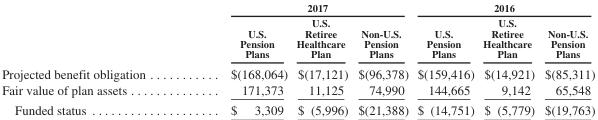table: (1, 1, 594, 117)
table column: (1, 1, 187, 117), (187, 1, 291, 117), (412, 1, 478, 117), (291, 1, 352, 117), (478, 1, 539, 117), (352, 1, 412, 117), (539, 1, 594, 117)
table column header: (1, 1, 594, 63)
table row: (1, 14, 594, 63), (1, 63, 594, 81), (1, 81, 594, 99), (1, 99, 594, 117), (1, 1, 594, 14)
table spanning cell: (187, 1, 412, 14), (412, 1, 594, 14)
